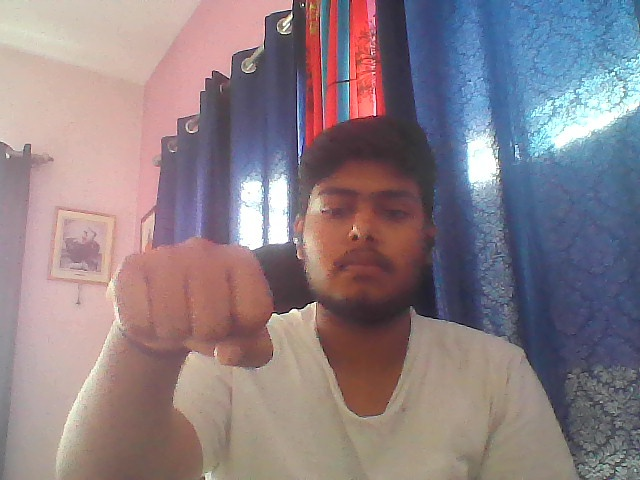Yes: (100, 234, 293, 382)
